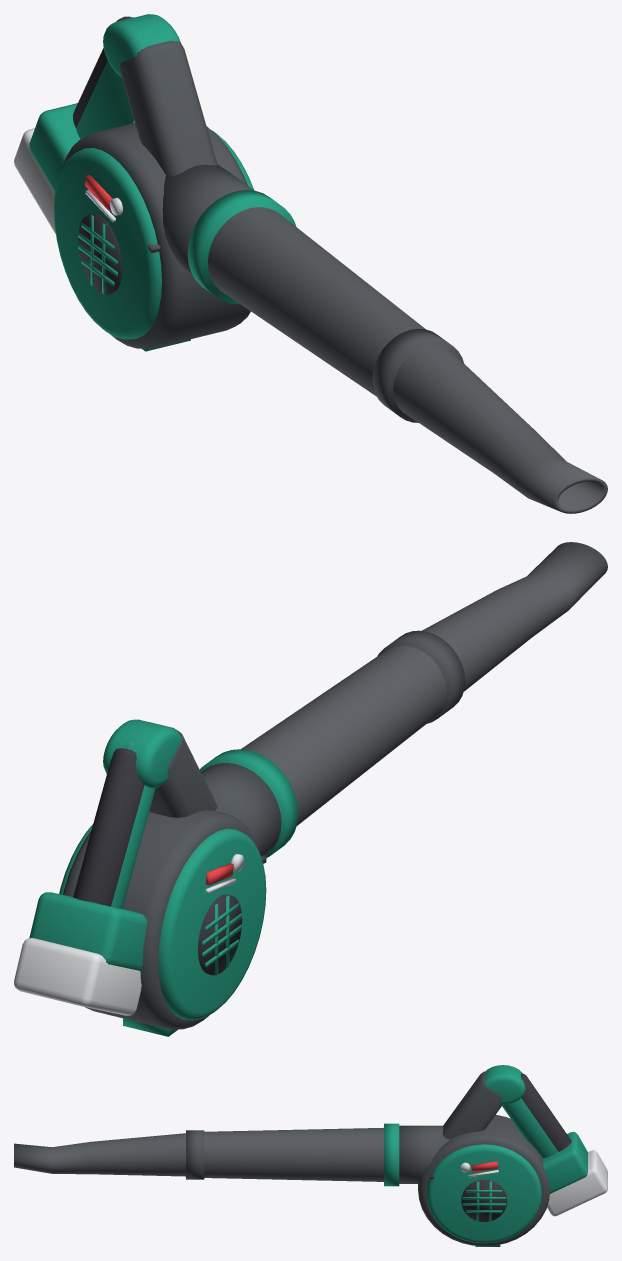
Rendered from bosch_leafblower.glb.
3 renders of one model, top to bottom at view 1: azimuth 30°, elevation 25°; view 2: azimuth 150°, elevation 25°; view 3: azimuth 270°, elevation 25°, orthographic. The views are drawn at different scales.
Parts seen in each view (by area): view 1: Blower_Nozzle_Tube, Blower_Green_Cheek_L, Blower_Turbine_Core, Blower_Handle_Front_Strut, Blower_Outlet_Snout, Blower_QuickRelease_Collar, Blower_Battery_Dock, Blower_Mid_Coupling_Ring, Blower_Handle_Top_Knuckle, Blower_Ergonomic_Grip, Blower_Intake_Grille_L, Blower_18V_Battery_Pack (+1 smaller); view 2: Blower_Nozzle_Tube, Blower_Green_Cheek_L, Blower_Turbine_Core, Blower_18V_Battery_Pack, Blower_SoftGrip_Overmold, Blower_Battery_Dock, Blower_Outlet_Snout, Blower_Handle_Top_Knuckle, Blower_Handle_Front_Strut, Blower_QuickRelease_Collar, Blower_Mid_Coupling_Ring, Blower_Intake_Grille_L (+1 smaller); view 3: Blower_Nozzle_Tube, Blower_Green_Cheek_R, Blower_Turbine_Core, Blower_Outlet_Snout, Blower_Handle_Front_Strut, Blower_18V_Battery_Pack, Blower_Battery_Dock, Blower_Ergonomic_Grip, Blower_SoftGrip_Overmold, Blower_Handle_Top_Knuckle, Blower_Intake_Grille_R, Blower_QuickRelease_Collar (+1 smaller).
Part boxes in pixels (x1,y1,x2,y2): Blower_Nozzle_Tube: [208, 207, 607, 513]; Blower_Green_Cheek_L: [54, 148, 161, 339]; Blower_Turbine_Core: [60, 123, 250, 348]; Blower_Handle_Front_Strut: [120, 40, 217, 176]; Blower_Outlet_Snout: [162, 164, 253, 274]; Blower_QuickRelease_Collar: [187, 190, 296, 304]; Blower_Battery_Dock: [29, 103, 134, 191]; Blower_Mid_Coupling_Ring: [372, 328, 463, 422]; Blower_Handle_Top_Knuckle: [103, 14, 180, 77]; Blower_Ergonomic_Grip: [76, 17, 133, 138]; Blower_Intake_Grille_L: [78, 213, 122, 294]; Blower_18V_Battery_Pack: [14, 128, 55, 234]; Blower_Nozzle_Tube: [241, 542, 607, 826]; Blower_Green_Cheek_L: [158, 828, 266, 1020]; Blower_Turbine_Core: [63, 810, 260, 1029]; Blower_18V_Battery_Pack: [14, 938, 141, 1015]; Blower_SoftGrip_Overmold: [73, 748, 144, 906]; Blower_Battery_Dock: [29, 892, 146, 970]; Blower_Outlet_Snout: [201, 762, 281, 855]; Blower_Handle_Top_Knuckle: [103, 719, 181, 788]; Blower_Handle_Front_Strut: [149, 722, 217, 817]; Blower_QuickRelease_Collar: [199, 749, 298, 857]; Blower_Mid_Coupling_Ring: [377, 630, 465, 723]; Blower_Intake_Grille_L: [198, 894, 242, 975]; Blower_Nozzle_Tube: [14, 1127, 383, 1181]; Blower_Green_Cheek_R: [426, 1144, 541, 1243]; Blower_Turbine_Core: [418, 1115, 549, 1246]; Blower_Outlet_Snout: [399, 1125, 449, 1183]; Blower_Handle_Front_Strut: [442, 1071, 502, 1139]; Blower_18V_Battery_Pack: [547, 1150, 607, 1216]; Blower_Battery_Dock: [543, 1132, 587, 1193]; Blower_Ergonomic_Grip: [502, 1072, 558, 1158]; Blower_SoftGrip_Overmold: [521, 1073, 571, 1151]; Blower_Handle_Top_Knuckle: [485, 1065, 525, 1104]; Blower_Intake_Grille_R: [461, 1179, 507, 1222]; Blower_QuickRelease_Collar: [384, 1123, 399, 1186].
Size of the model in its own units: 0.116 by 0.271 by 0.8525.
